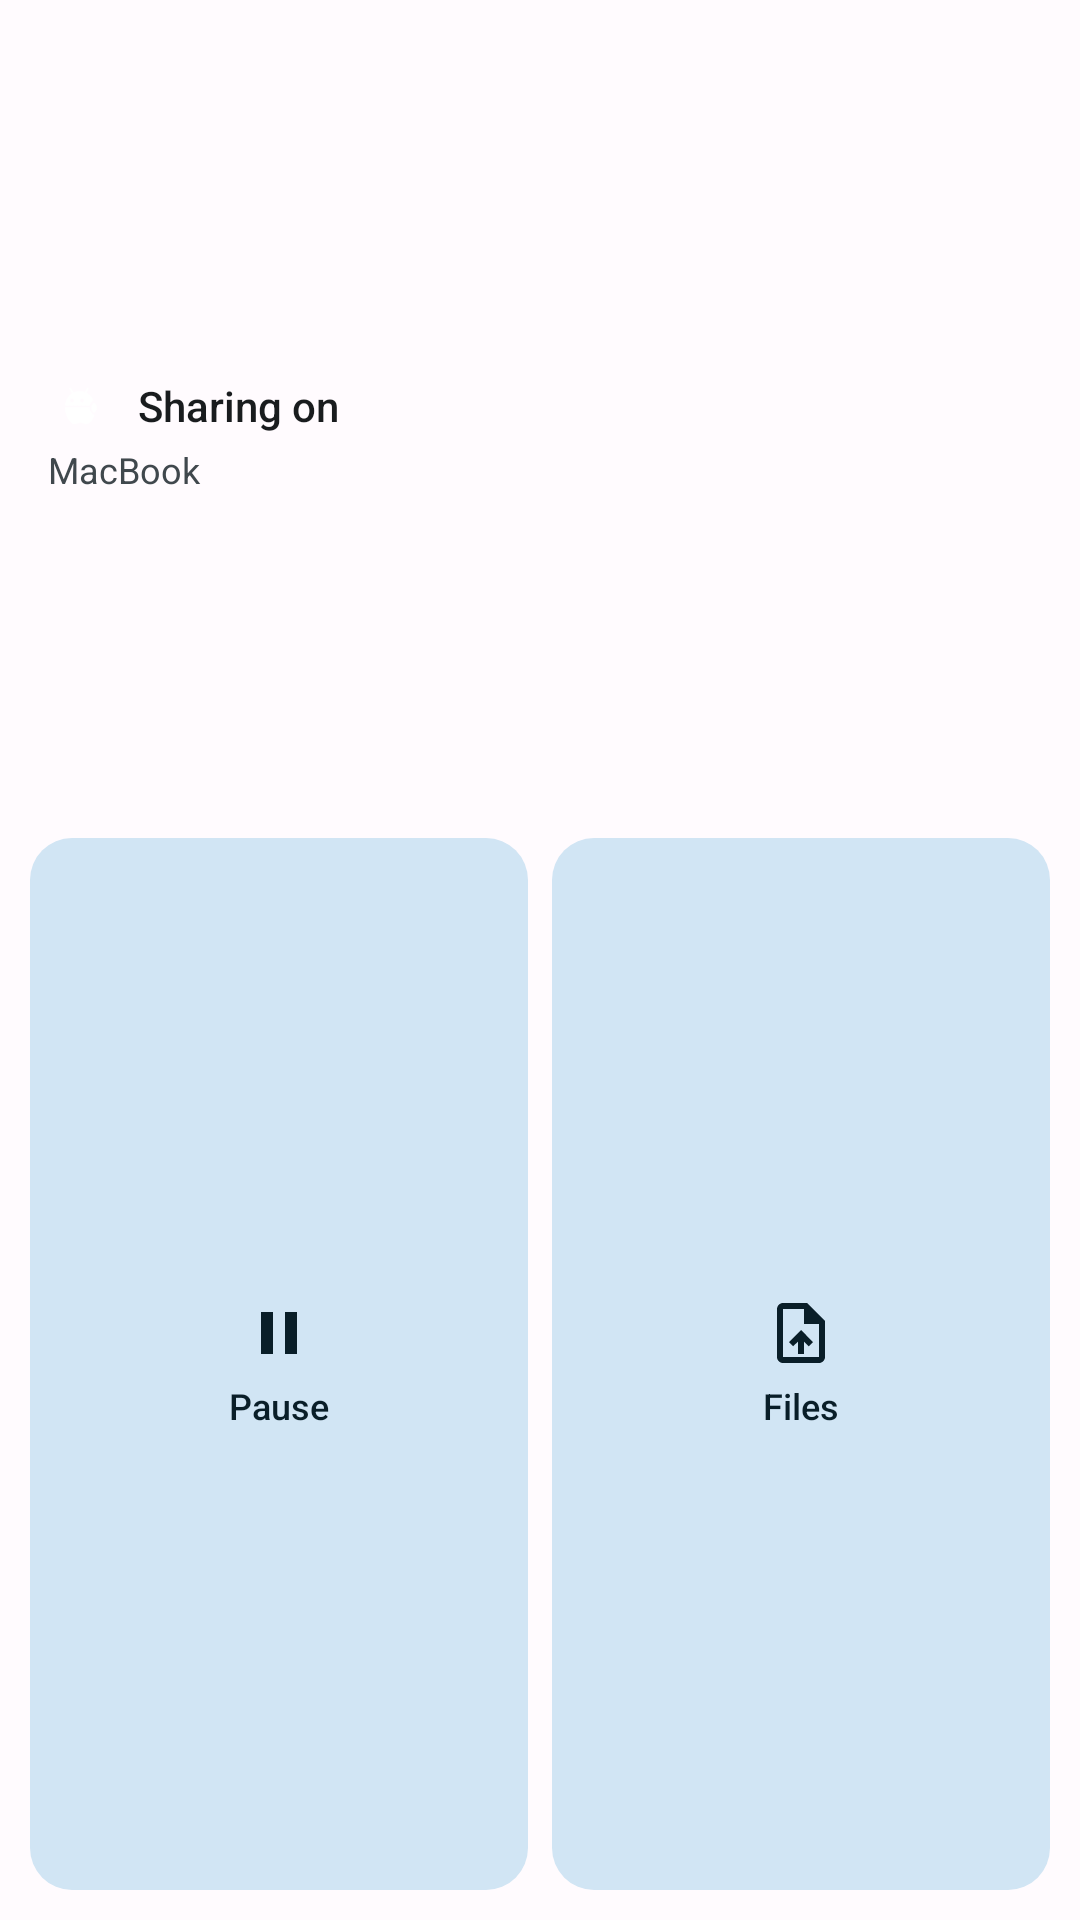

Screen size 1080x1920. Icon name, then its center in pixels as [x,y]:
upload: [801,1333]
